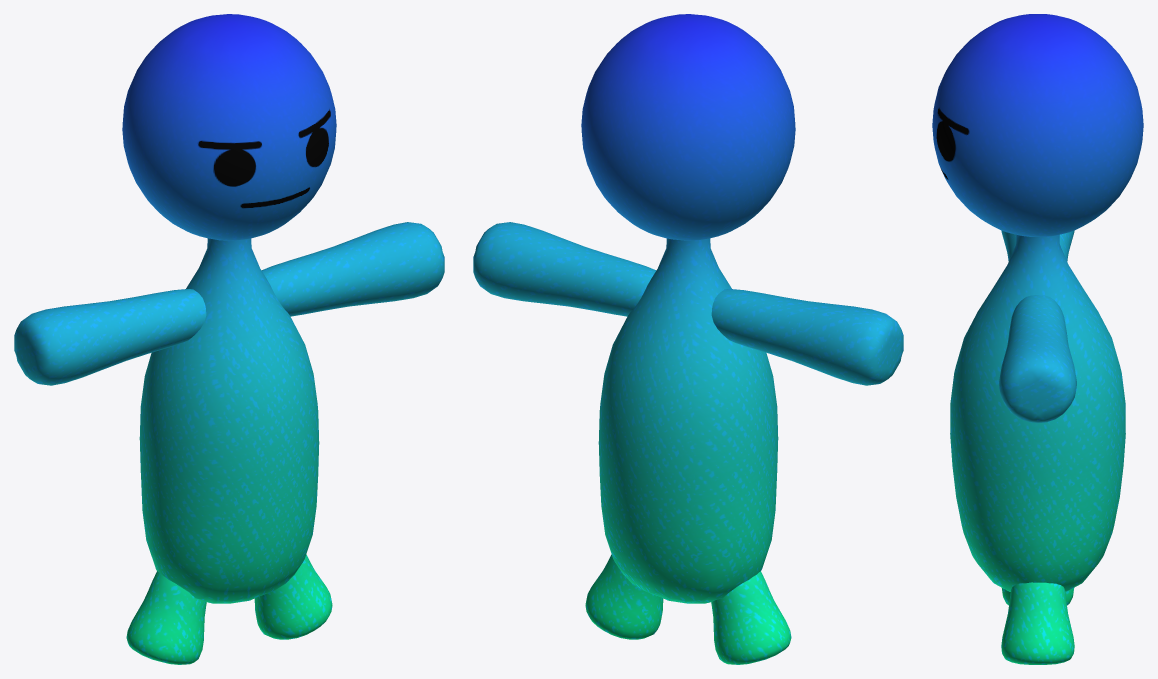
The model's file is doll.fbx.
3 renders of one model, left to right at view 1: azimuth 30°, elevation 25°; view 2: azimuth 150°, elevation 25°; view 3: azimuth 270°, elevation 25°, orthographic.
Parts seen in each view (by area): view 1: doll; view 2: doll; view 3: doll.
Part boxes in pixels (x1,y1,x2,y2): doll: (14, 14, 444, 664); doll: (473, 14, 903, 664); doll: (932, 14, 1143, 664).
Size of the model in its own units: 22.86 by 33.49 by 10.45.
